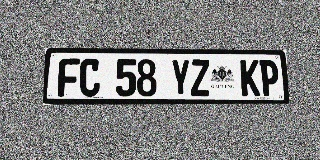5: (116, 59, 136, 96)
8: (137, 59, 157, 96)
C: (79, 59, 100, 97)
F: (58, 58, 80, 97)
K: (240, 60, 260, 96)
P: (259, 60, 279, 96)
Y: (171, 59, 190, 96)
Z: (190, 59, 210, 96)
